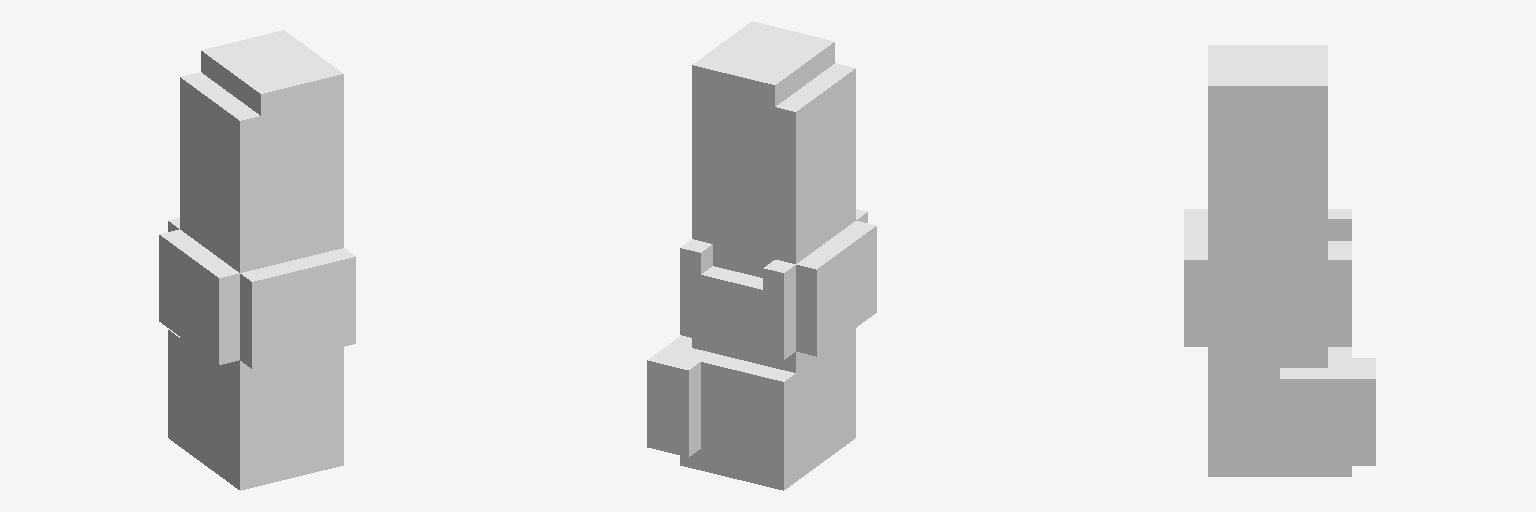
File: Heroes(Colfos)-0.obj
The picture shows the model from 3 angles: view 1: azimuth 30°, elevation 25°; view 2: azimuth 150°, elevation 25°; view 3: azimuth 270°, elevation 25°; orthographic projection.
Parts seen in each view (by area): view 1: object 1; view 2: object 1; view 3: object 1.
Part boxes in pixels (bbox=[...]): object 1: bbox=[159, 30, 355, 490]; object 1: bbox=[647, 21, 876, 490]; object 1: bbox=[1184, 45, 1375, 476].
Size of the model in its own units: 0.7 by 1.8 by 0.8.